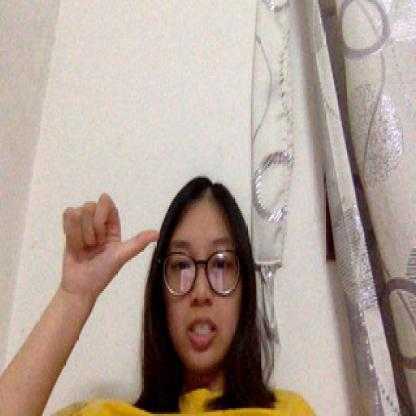left: (62, 193, 162, 301)
